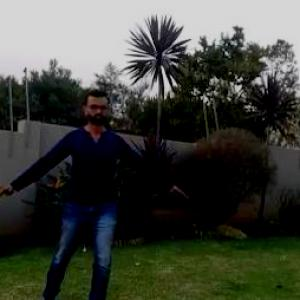land: (26, 98, 172, 278)
